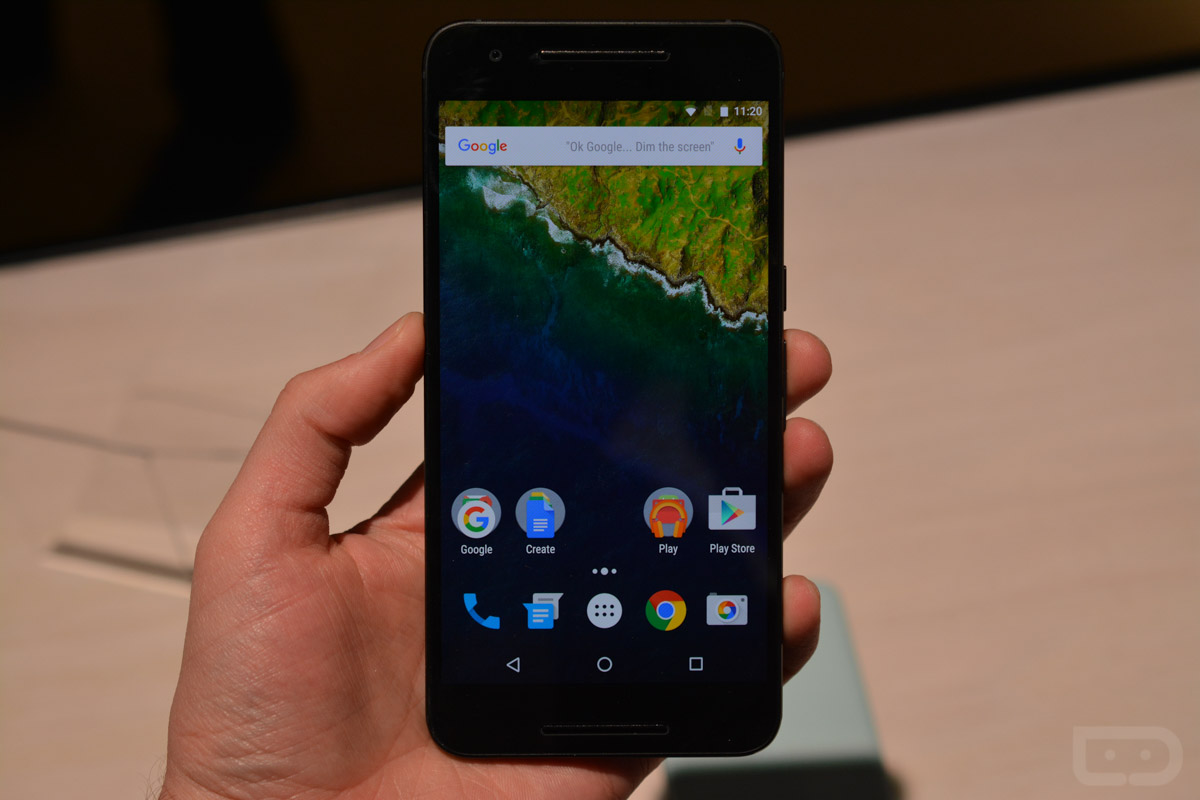smartphone: (424, 20, 787, 757)
